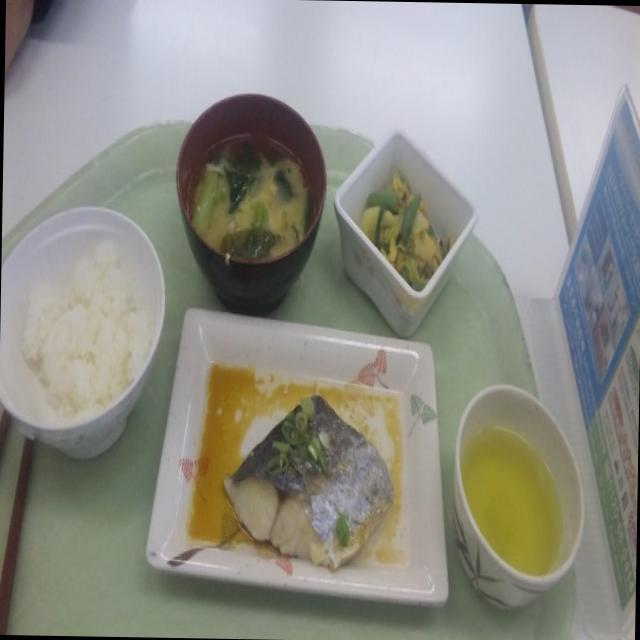Rice: (9, 247, 158, 409)
